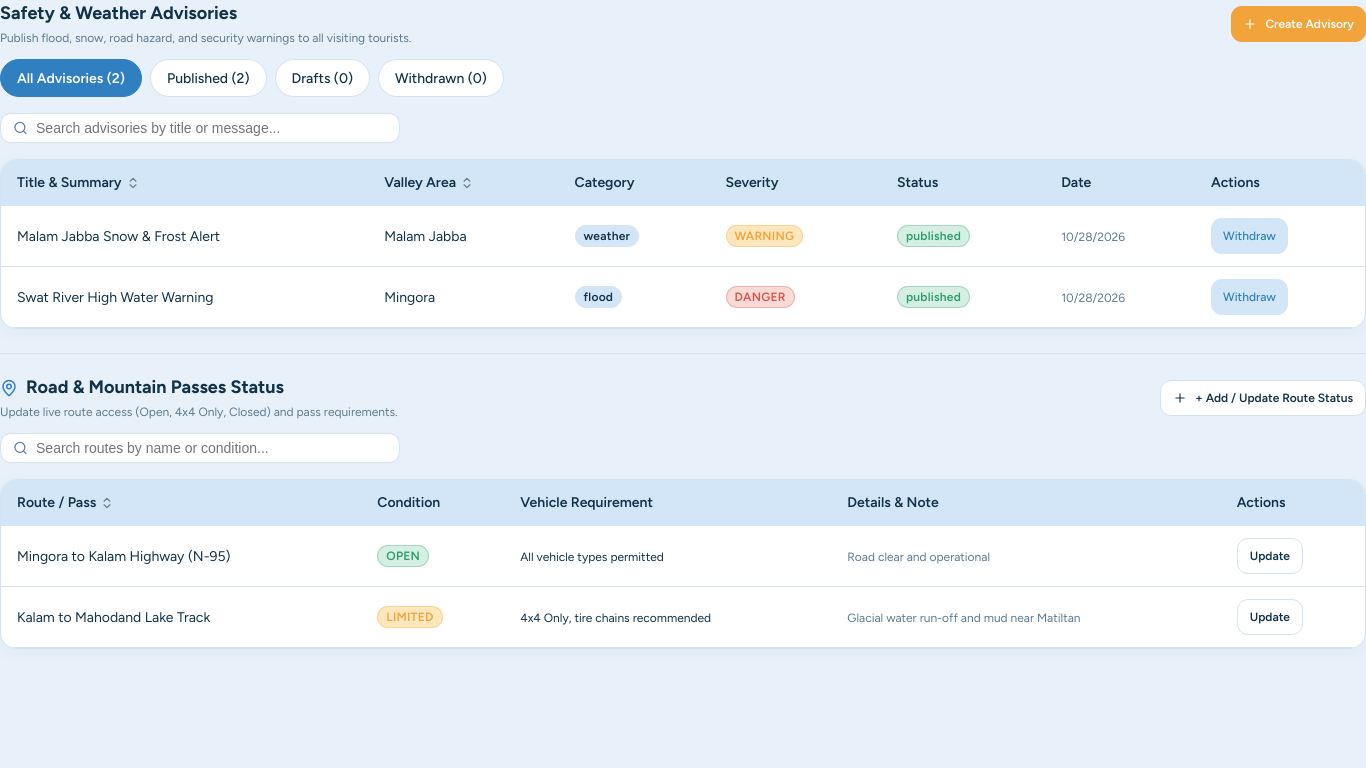
Test case: Step 6: Safety, Advisories, Road Status, and Emergency SOS › allows authority to update road condition status
// Click Add/Update Route Status
Click the button with test id "btn-add-road" at (1263, 398), box top-left (1160, 380), bottom-right (1365, 416)
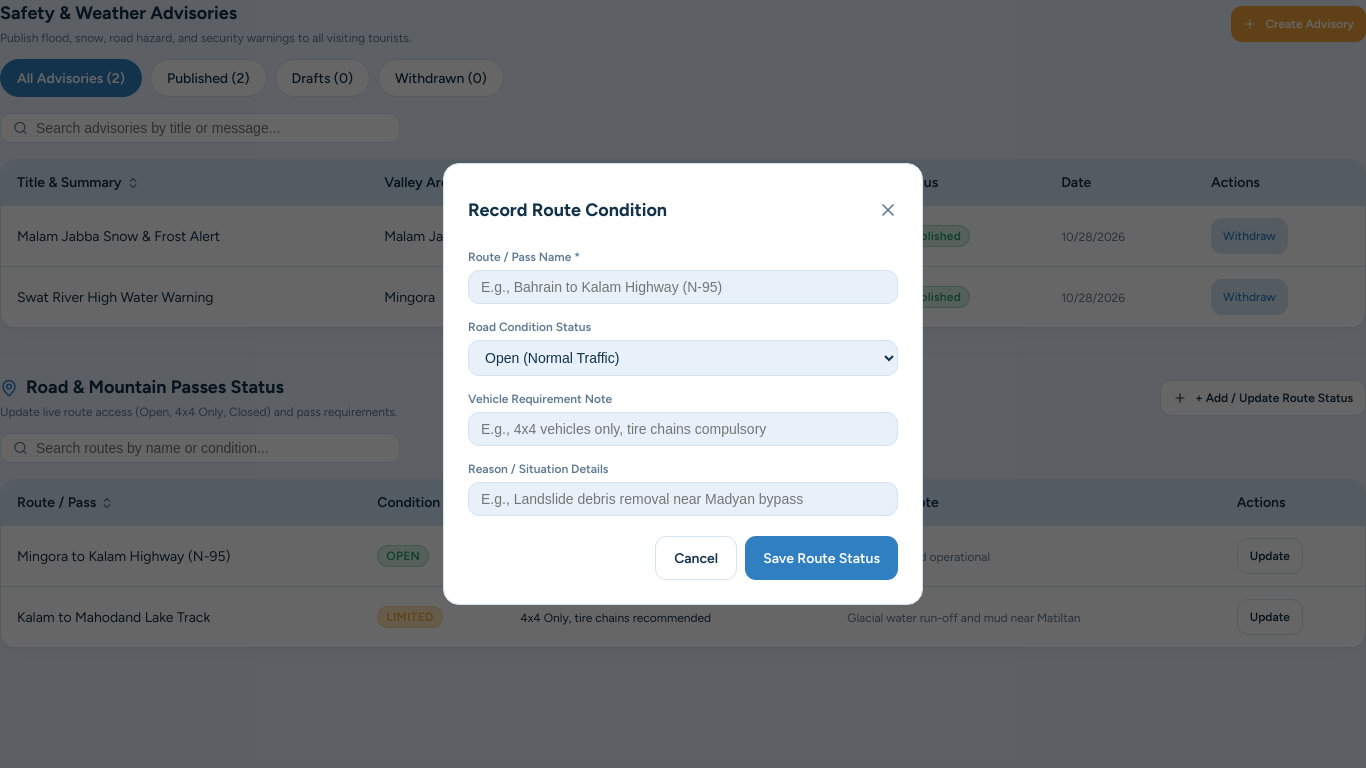
Expected: the element with test id "modal-road-status" is shown
Type "Kalam to Utror Road" into the field with test id "input-road-name" at (683, 287), box top-left (468, 270), bottom-right (898, 304)
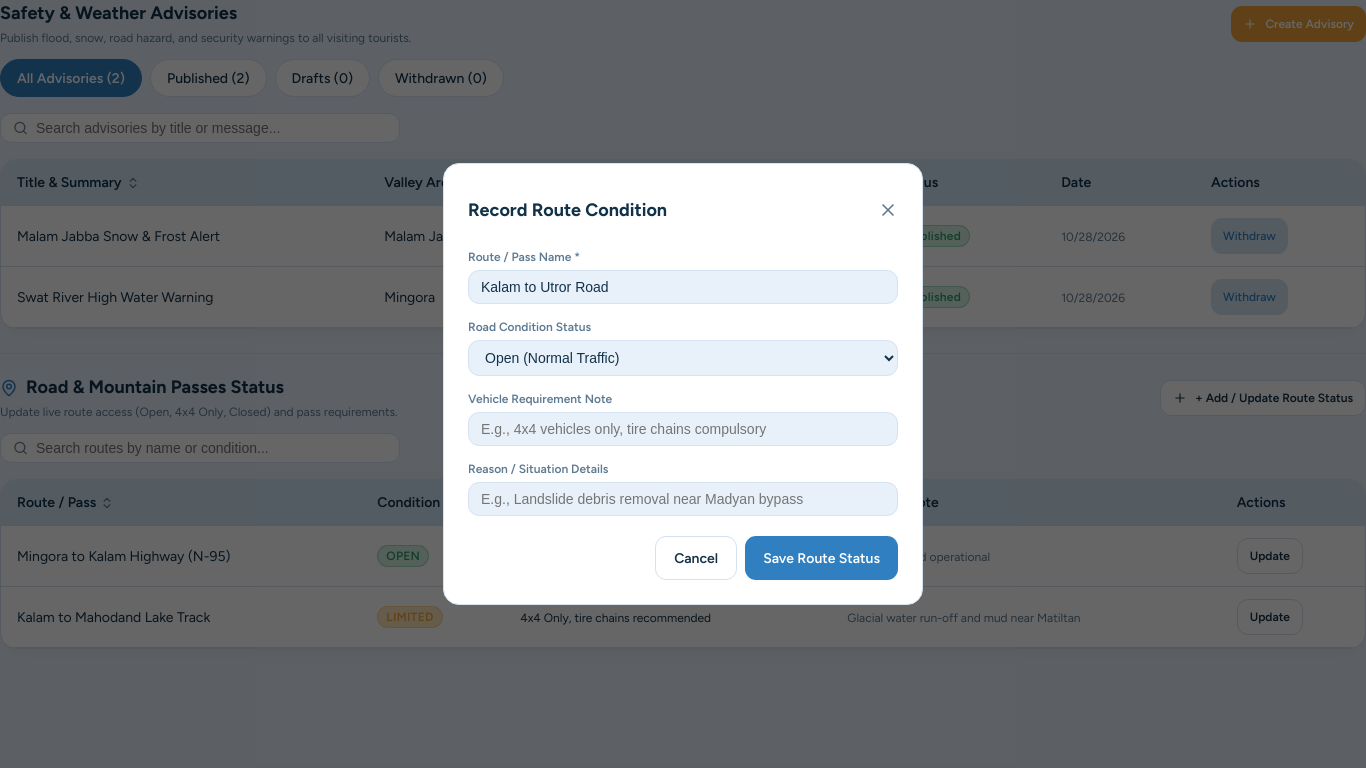
Select "Limited (4x4 Only / Chains Advised)" in the dropdown with test id "select-road-status" at (683, 358), box top-left (468, 340), bottom-right (898, 376)
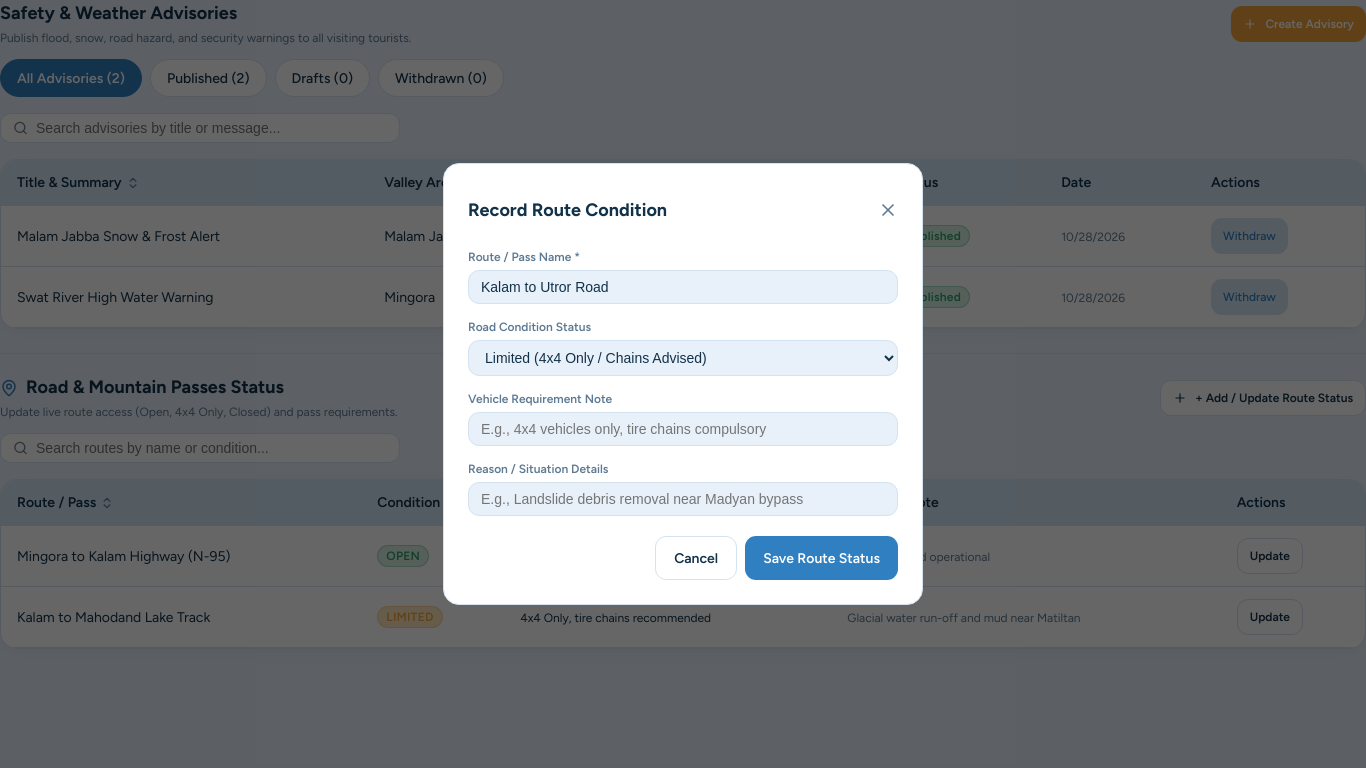
Click the button with test id "btn-submit-road" at (822, 558), box top-left (745, 536), bottom-right (898, 580)
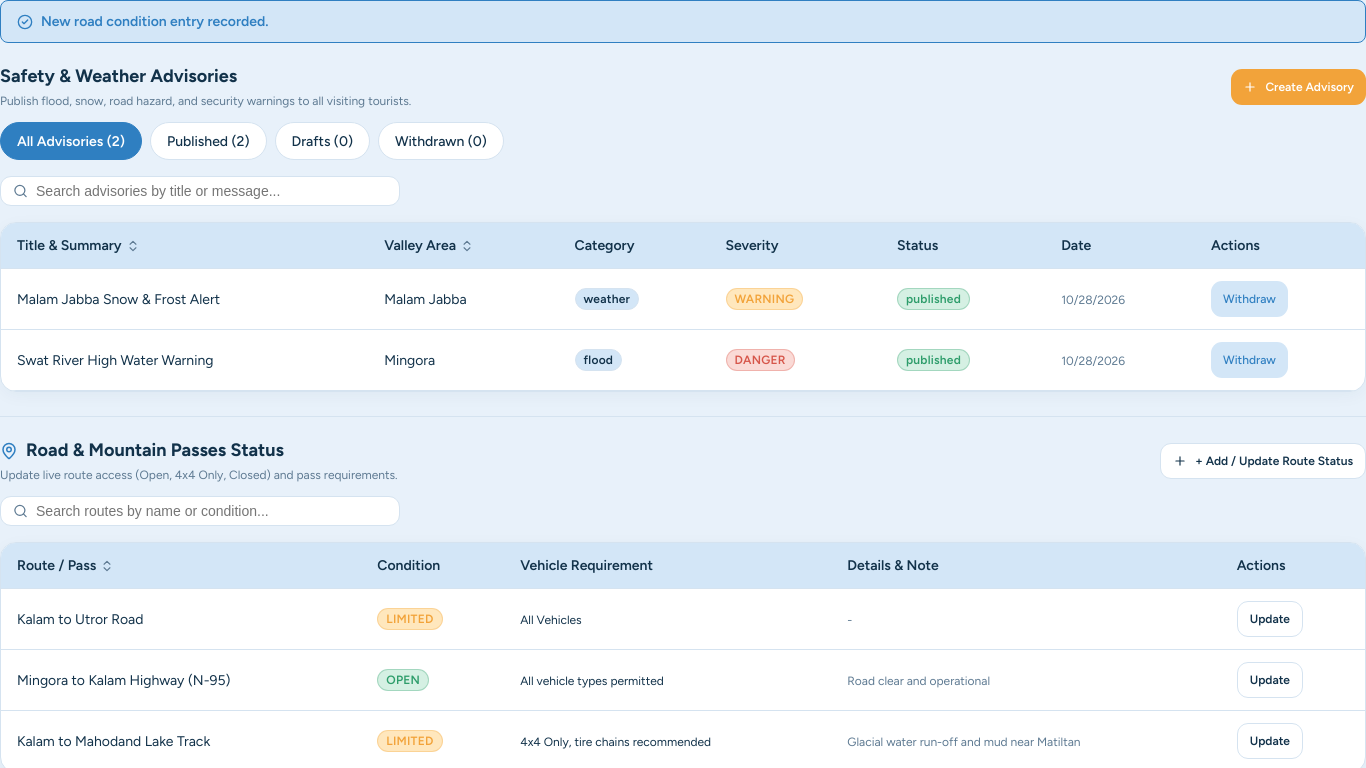
Expected: the text "Kalam to Utror Road" is shown, top-left (1, 588), bottom-right (361, 650)
Expected: the text "New road condition entry recorded." is shown, top-left (0, 0), bottom-right (1365, 43)
